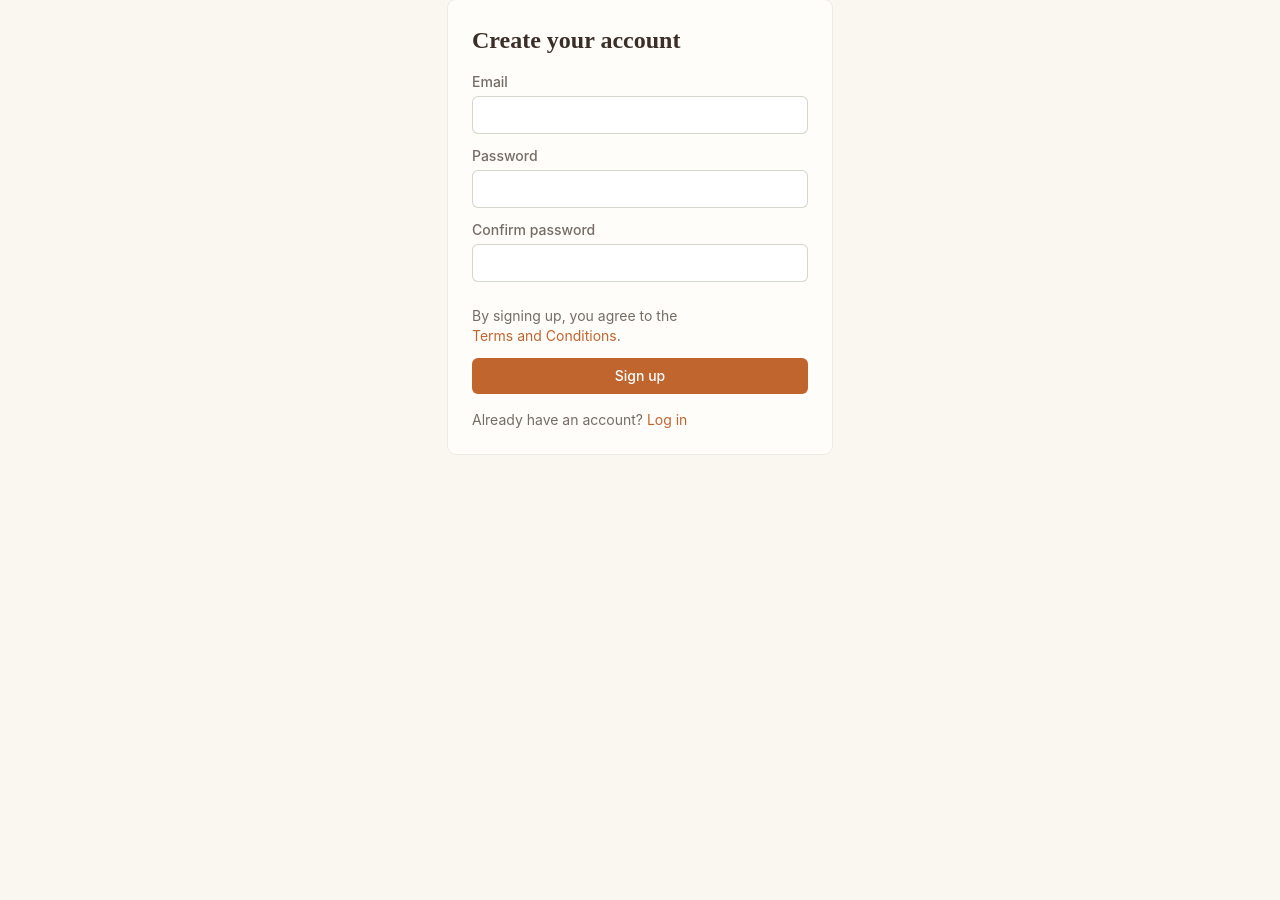
Scenario: SignupForm › opens the overlay from the inline terms link without needing to submit first
Click the button "Terms and Conditions".
click(544, 336)  # box [472,326,617,346]
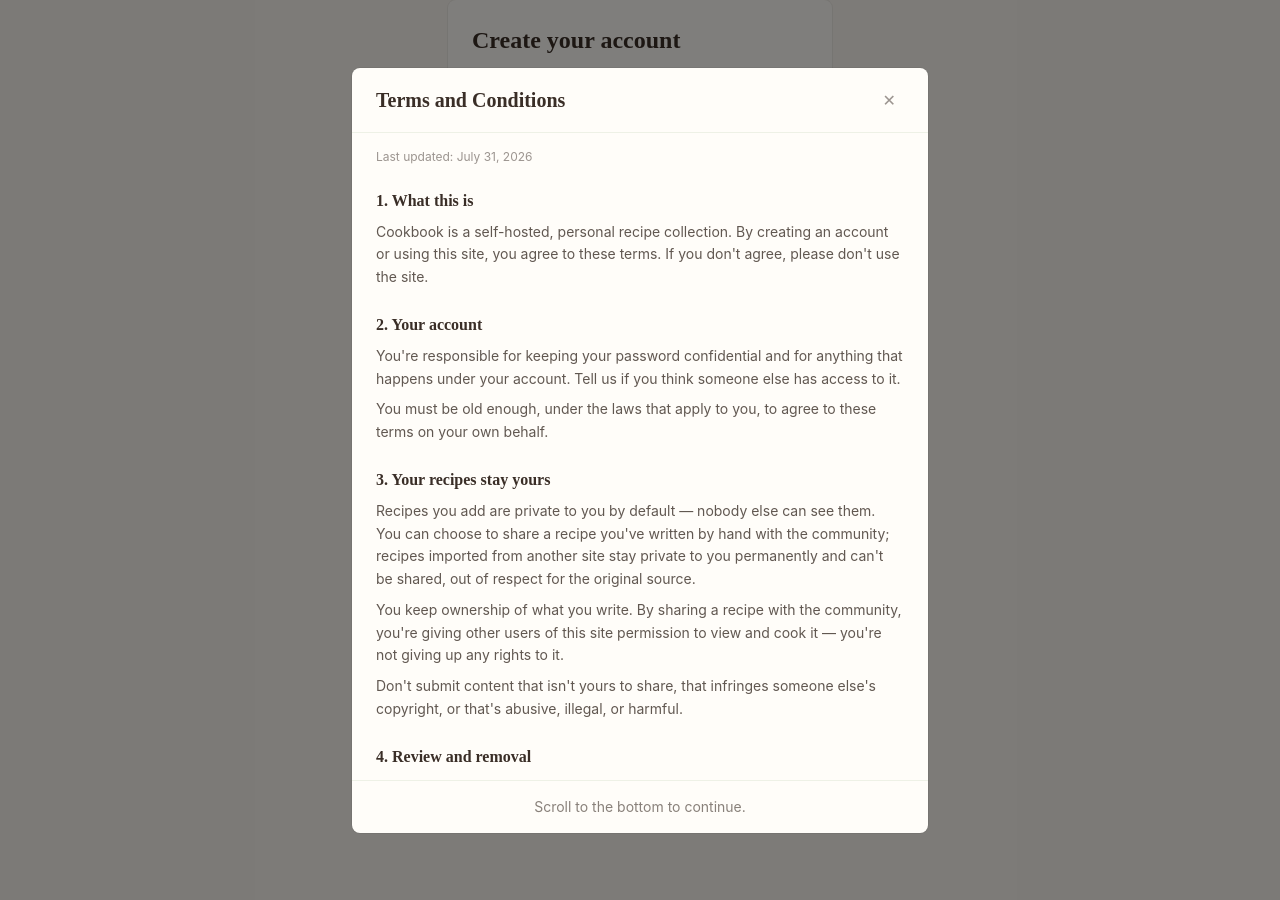
Expected: the dialog "Terms and Conditions" is shown
